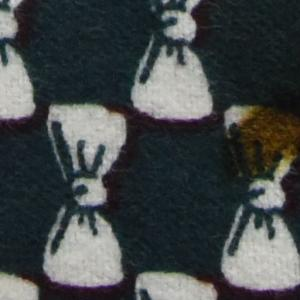Oil Stain: (220, 89, 300, 186)
